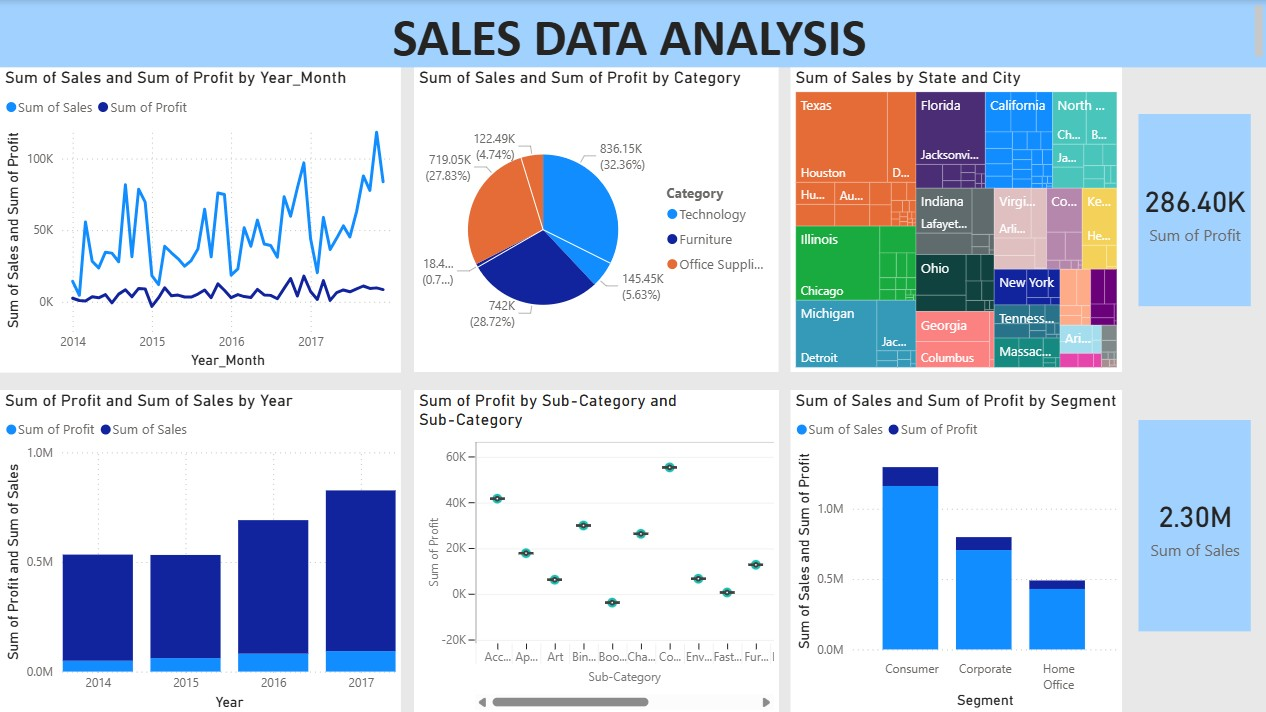

The page's visual inventory and layout, read from the dashboard file:
{"tool":"powerbi","page":{"name":"Page 1","canvas":[1280,720],"ordinal":0},"visuals":[{"type":"textbox","box":[0,0,1279.4,68],"z":0},{"type":"lineChart","fields":{"Y":["Sum(DV+Sales+Data (1).Sales)","Sum(DV+Sales+Data (1).Profit)"],"Category":["DV+Sales+Data (1).Year_Month"]},"box":[0,68,404.4,308],"z":1000},{"type":"columnChart","fields":{"Category":["DV+Sales+Data (1).Year_Month.Variation.Date Hierarchy.Year","DV+Sales+Data (1).Year_Month.Variation.Date Hierarchy.Quarter","DV+Sales+Data (1).Year_Month.Variation.Date Hierarchy.Month","DV+Sales+Data (1).Year_Month.Variation.Date Hierarchy.Day"],"Y":["Sum(DV+Sales+Data (1).Profit)","Sum(DV+Sales+Data (1).Sales)"]},"box":[0,393.1,404.4,326.9],"z":2000},{"type":"pieChart","fields":{"Category":["DV+Sales+Data (1).Category"],"Y":["Sum(DV+Sales+Data (1).Sales)","Sum(DV+Sales+Data (1).Profit)"]},"box":[417.9,68.1,368,307.4],"z":3000},{"type":"BoxandWhiskerByMAQ1823AD39DT234AB532063E128AX","fields":{"category":["DV+Sales+Data (1).Sub-Category"],"measure":["Sum(DV+Sales+Data (1).Profit)"],"categoryGroup":["DV+Sales+Data (1).Sub-Category"]},"box":[418,393,368,327],"z":4000},{"type":"treemap","fields":{"Group":["DV+Sales+Data (1).State"],"Details":["DV+Sales+Data (1).City"],"Values":["Sum(DV+Sales+Data (1).Sales)"]},"box":[798,68.1,334.6,307.4],"z":5000},{"type":"columnChart","fields":{"Category":["DV+Sales+Data (1).Segment"],"Y":["Sum(DV+Sales+Data (1).Sales)","Sum(DV+Sales+Data (1).Profit)"]},"box":[798,393.7,334.6,325.6],"z":6000},{"type":"card","fields":{"Values":["Sum(DV+Sales+Data (1).Profit)"]},"box":[1149.3,115.1,113.6,193.8],"z":7000},{"type":"card","fields":{"Values":["Sum(DV+Sales+Data (1).Sales)"]},"box":[1149.3,424,113.6,213.5],"z":8000}]}

Visuals, with their boxes in screenshot pixels (x1, y1, x2, y2), scaled from the page's 1280x720 canvas onto the 1266x712 screenshot:
textbox: 0:0:1265:67
lineChart - Sum(DV+Sales+Data (1).Sales) x Sum(DV+Sales+Data (1).Profit): 0:67:400:372
columnChart - DV+Sales+Data (1).Year_Month.Variation.Date Hierarchy.Year x DV+Sales+Data (1).Year_Month.Variation.Date Hierarchy.Quarter: 0:389:400:711
pieChart - DV+Sales+Data (1).Category x Sum(DV+Sales+Data (1).Sales): 413:67:777:371
BoxandWhiskerByMAQ1823AD39DT234AB532063E128AX - DV+Sales+Data (1).Sub-Category x Sum(DV+Sales+Data (1).Profit): 413:389:777:711
treemap - DV+Sales+Data (1).State x DV+Sales+Data (1).City: 789:67:1120:371
columnChart - DV+Sales+Data (1).Segment x Sum(DV+Sales+Data (1).Sales): 789:389:1120:711
card - Sum(DV+Sales+Data (1).Profit): 1137:114:1249:305
card - Sum(DV+Sales+Data (1).Sales): 1137:419:1249:630
